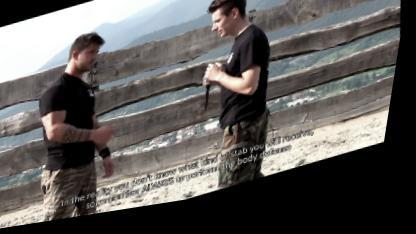knife: (198, 66, 228, 122)
